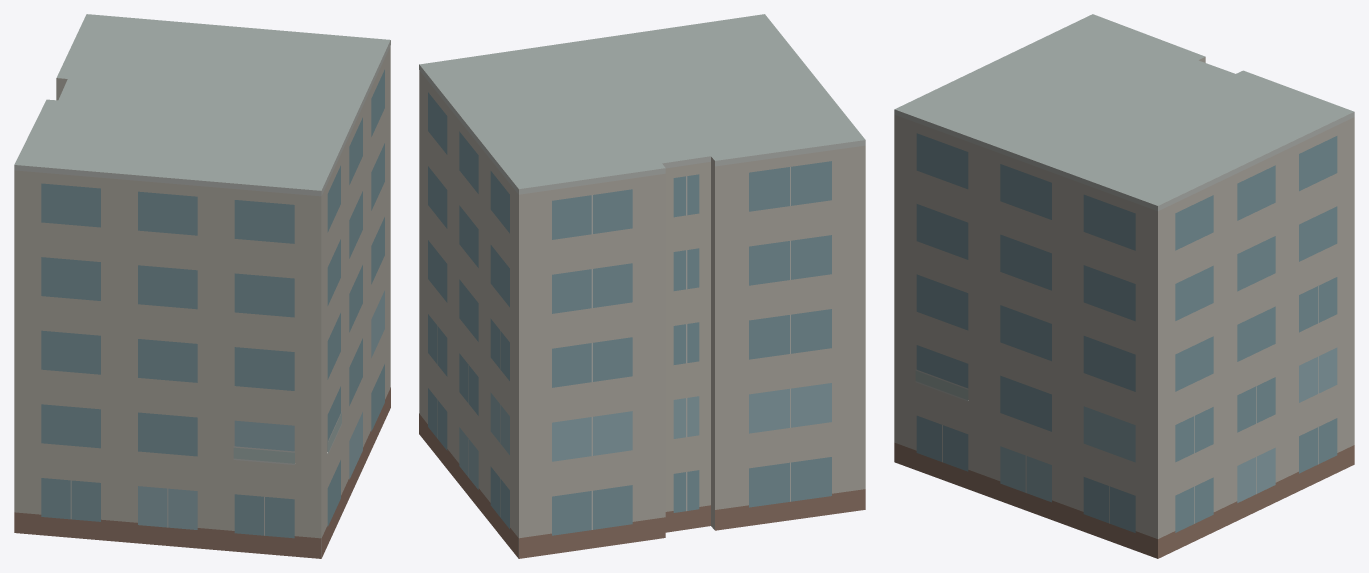
Rendered from survey-upis-32676555.glb.
3 views of the same model, side by side, from view 1: azimuth 30°, elevation 25°; view 2: azimuth 150°, elevation 25°; view 3: azimuth 270°, elevation 25° (orthographic). The views are drawn at different scales.
Visible parts, largest first — view 1: survey-upis-32676555.tmp; view 2: survey-upis-32676555.tmp; view 3: survey-upis-32676555.tmp.
Boxes of the visible parts, box(x1,y1,x2,y2) form: survey-upis-32676555.tmp: box(14, 14, 390, 558); survey-upis-32676555.tmp: box(419, 14, 865, 558); survey-upis-32676555.tmp: box(894, 14, 1354, 558).
Bounding box in the file's own units: 19.03 × 16.3 × 19.27.
